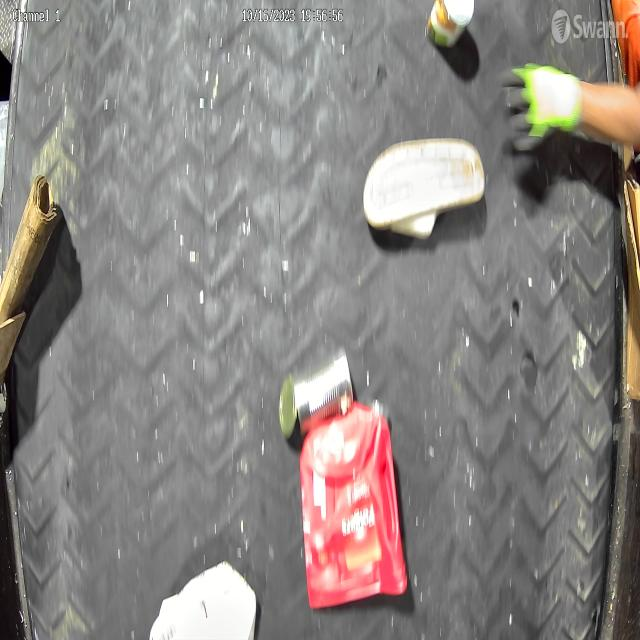can: (277, 350, 348, 438), (424, 0, 484, 53)
milk_jug: (146, 559, 260, 640)
non_white_jug: (298, 387, 411, 615)
